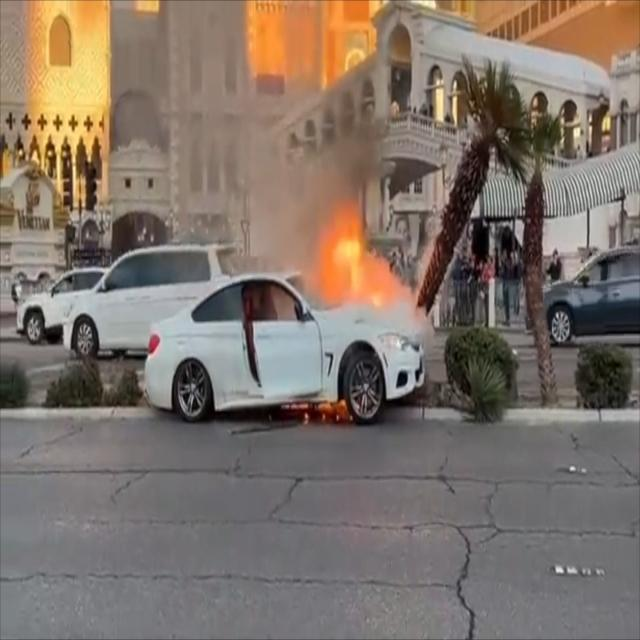fire: (318, 206, 386, 308)
